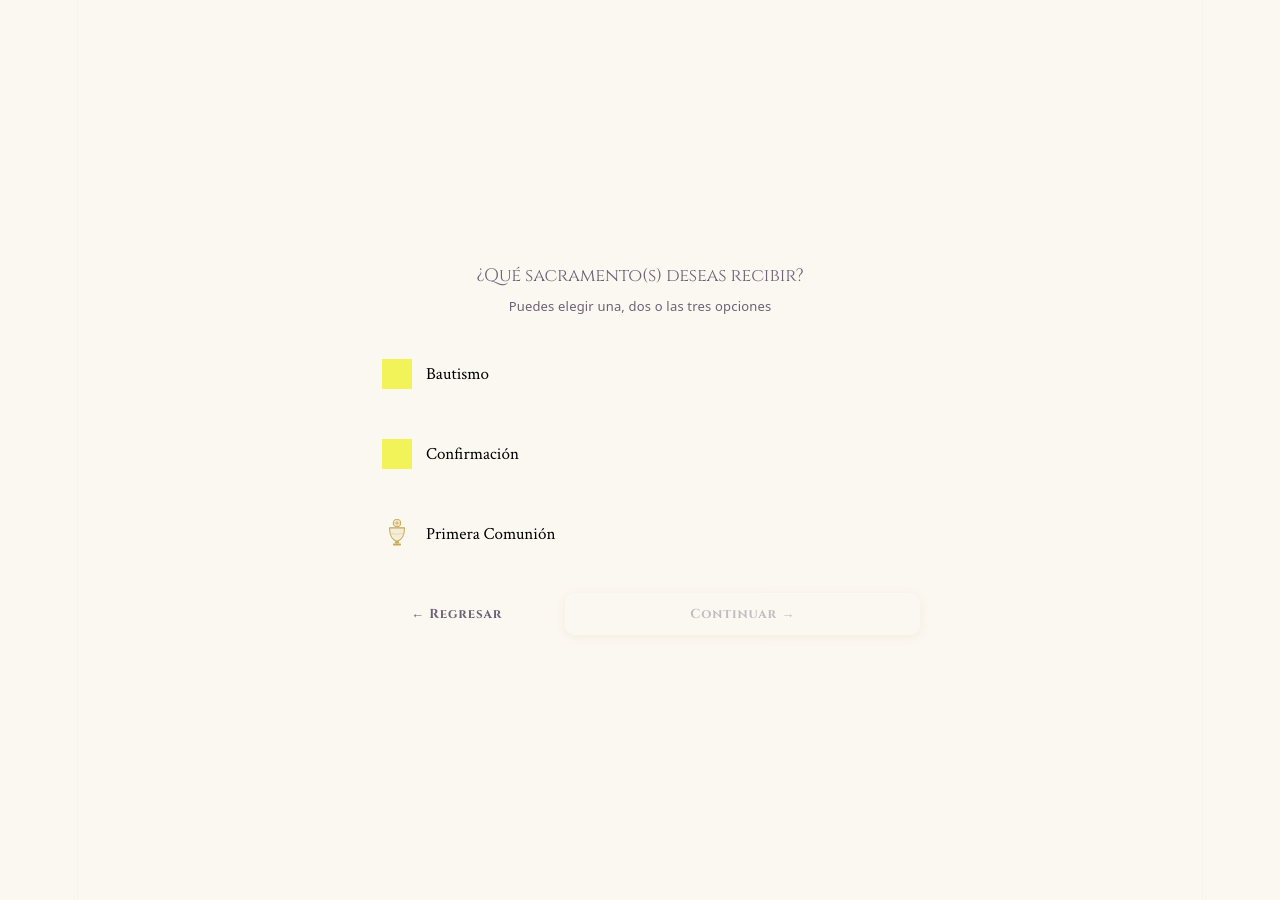
Test: SacSelectModal › permite deseleccionar (toggle)
Click the button "Bautismo". click: (458, 374)
box: [360,339,920,409]
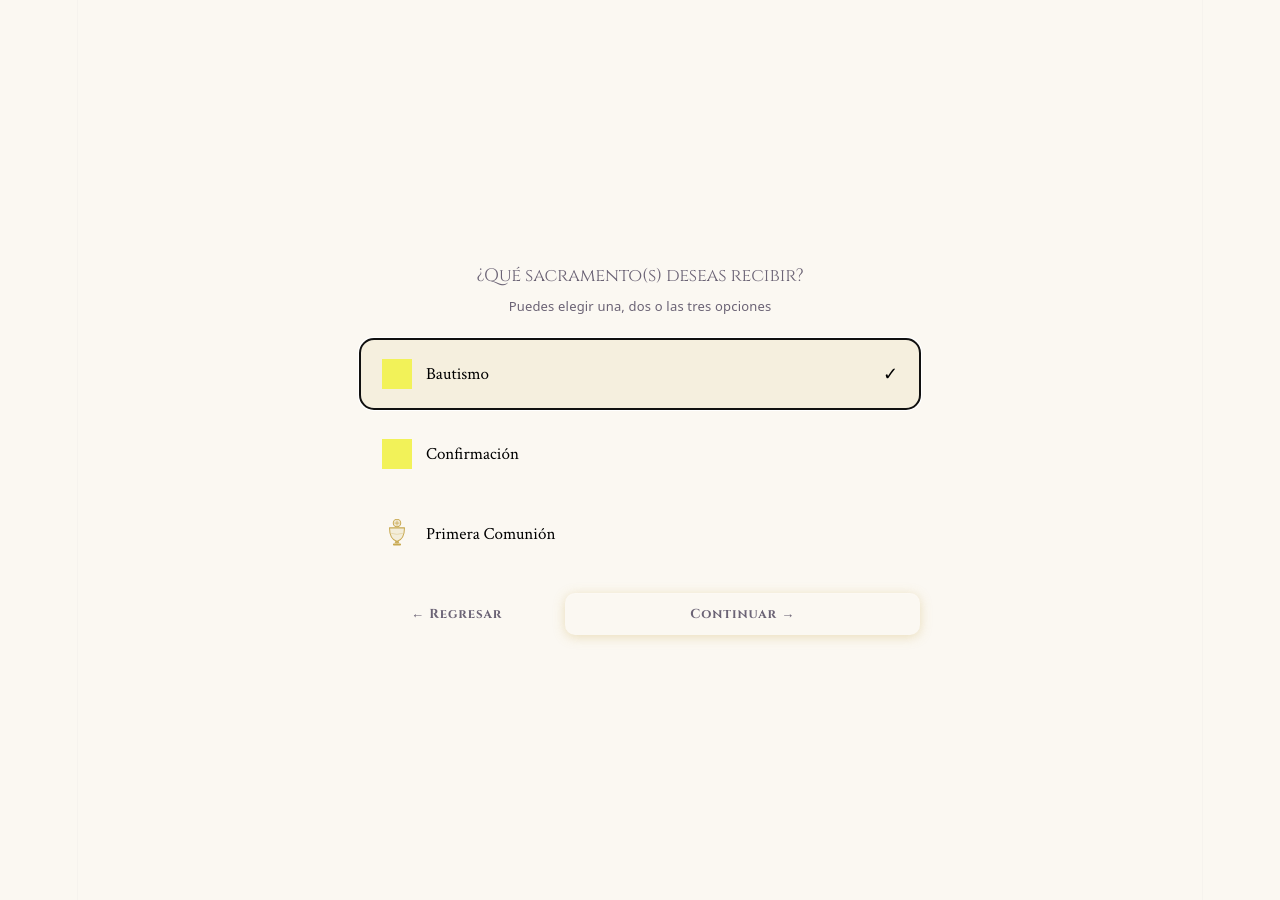
Click the button "Bautismo ✓". click: (458, 374)
box: [360,339,920,409]
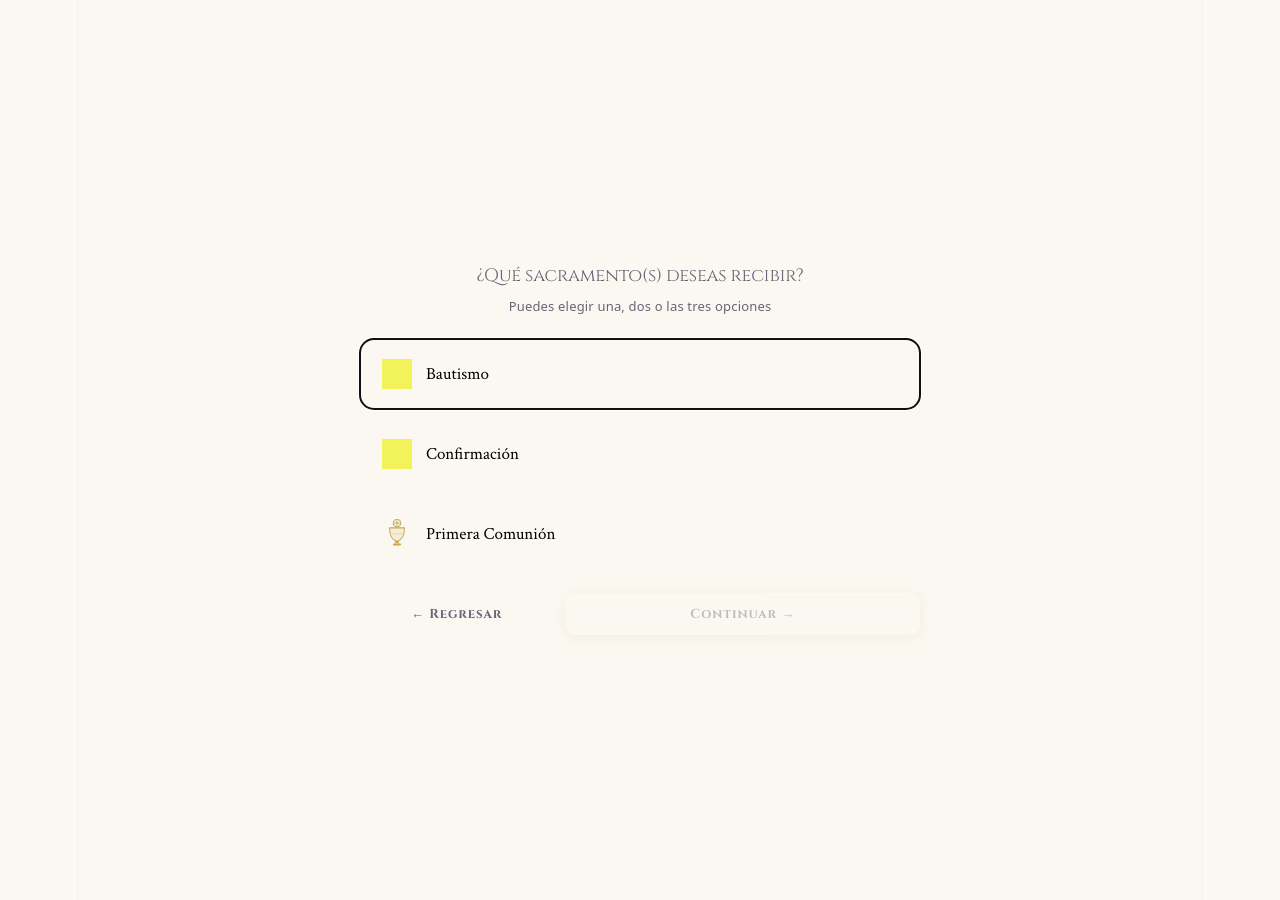
expect the button "Continuar →" is disabled: met, box [565,593,920,635]
